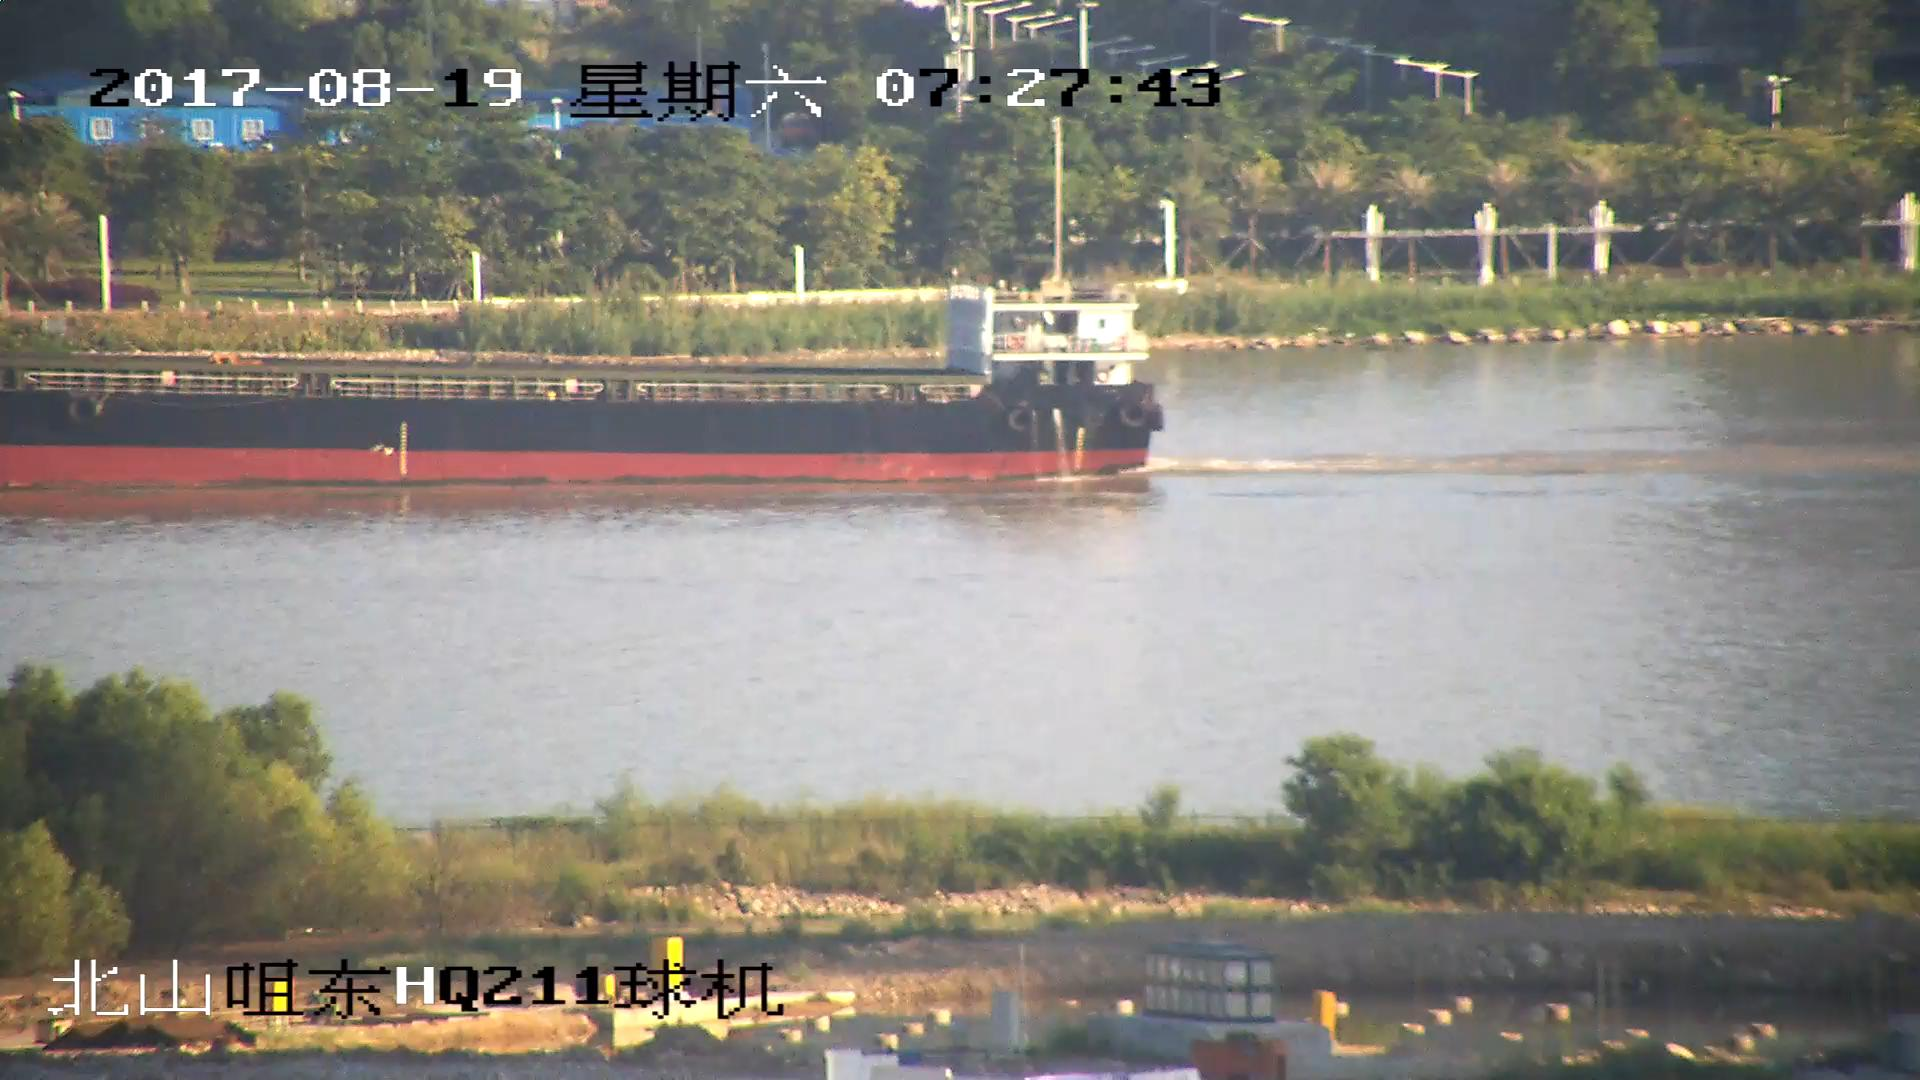general cargo ship: (1, 143, 1173, 498)
